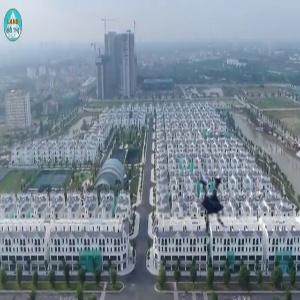drone: (164, 163, 246, 245)
